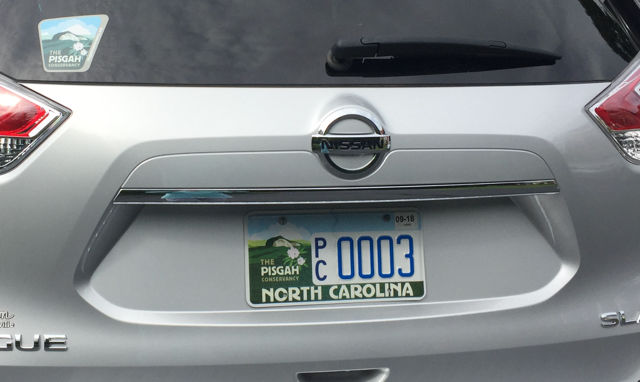license plate: (240, 206, 431, 310)
